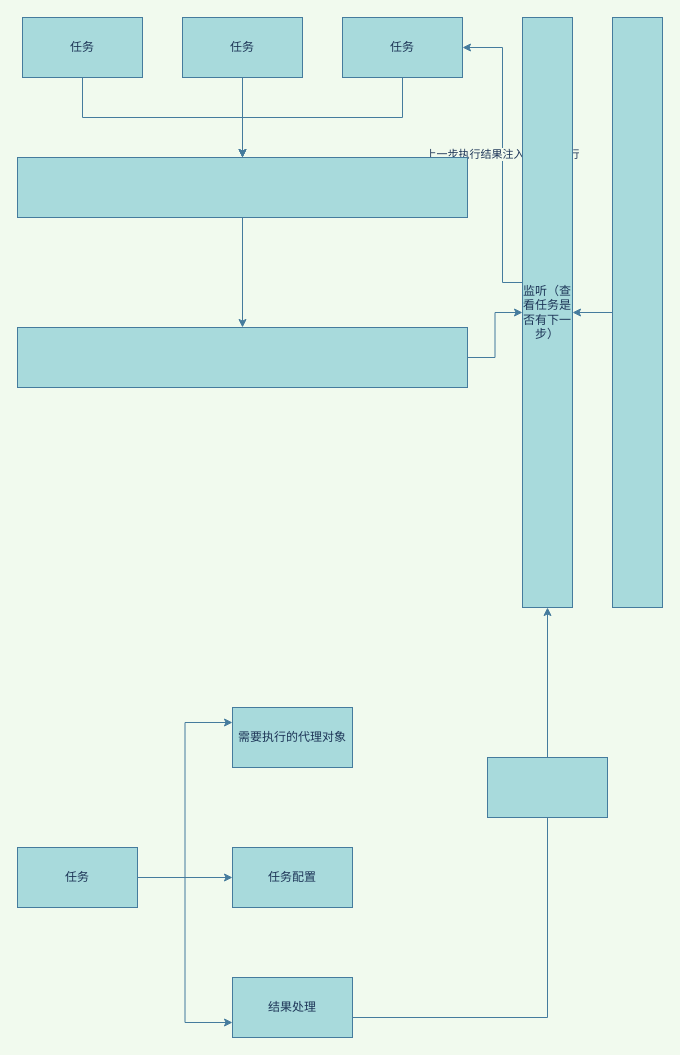
The diagram is 680 pixels wide and 1055 high, and some of its shapes have lost their labels. Each missing label, with the box of its shape:
任务状态: (486, 756, 608, 818)
全局配置: (612, 16, 662, 608)
执行器: (16, 156, 468, 218)
执行结果: (16, 326, 468, 388)
